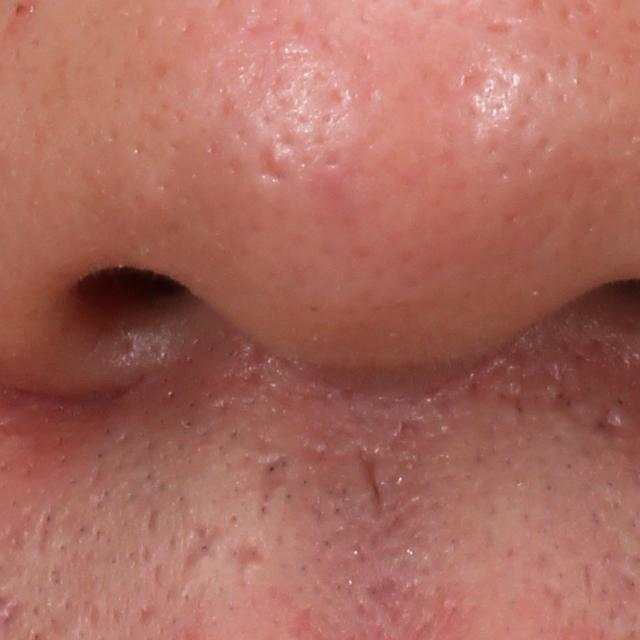atrophic_scar: (181, 525, 226, 584), (259, 452, 294, 517), (352, 446, 382, 510), (256, 142, 287, 188), (237, 539, 265, 584), (589, 405, 621, 440), (35, 504, 55, 558)
